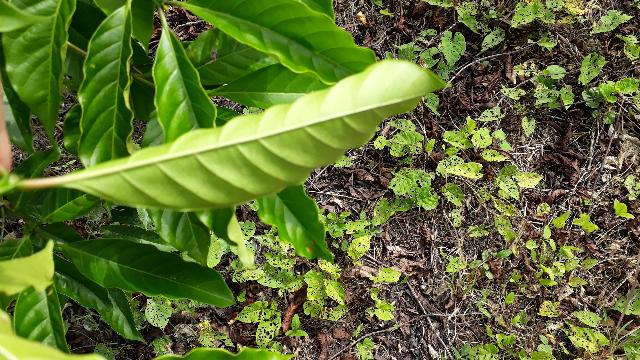healthy: (57, 55, 449, 213)
